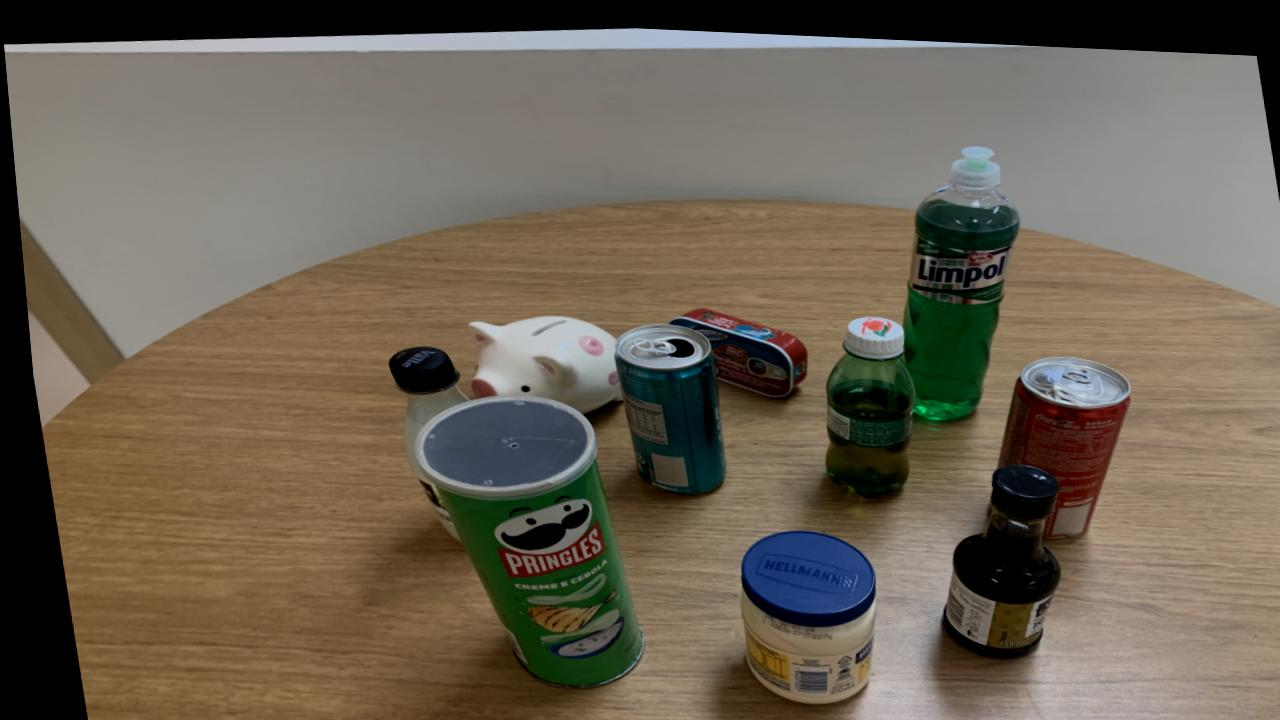Coke-Drinks: (989, 346, 1124, 528)
Detergent-Cleanup_Items: (898, 137, 1016, 411)
English_Sauce-Pantry_Items: (931, 455, 1051, 648)
Guarana-Drinks: (817, 307, 908, 489)
Ketchup-Pantry_Items: (382, 342, 460, 537)
Mayonnaise-Pantry_Items: (729, 523, 865, 696)
Pig_Safe-Miscellaneous: (462, 309, 614, 408)
Pringles-Snacks: (407, 391, 631, 682)
Tonic-Drinks: (608, 317, 719, 488)
Tuna_Can-Pantry_Items: (666, 302, 802, 390)
